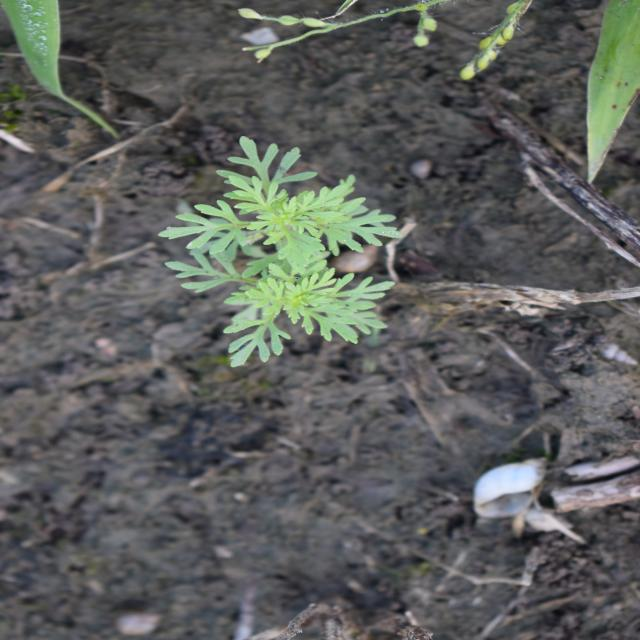Ragweed: (153, 133, 406, 371)
